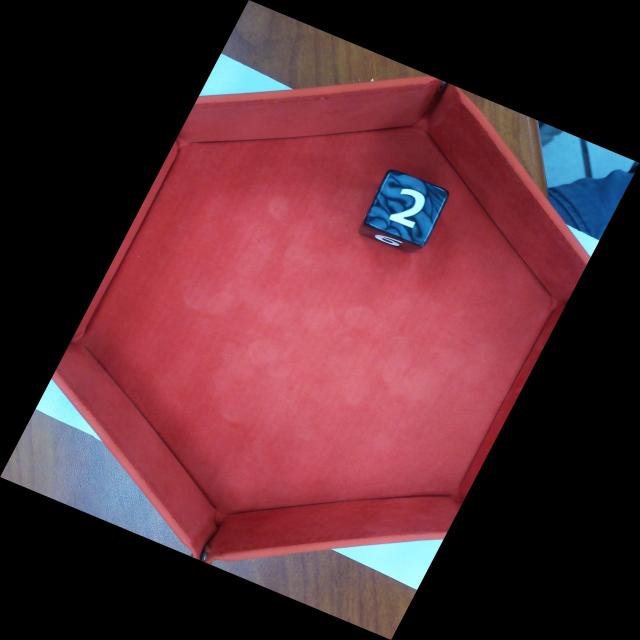dice: (361, 166, 452, 250)
